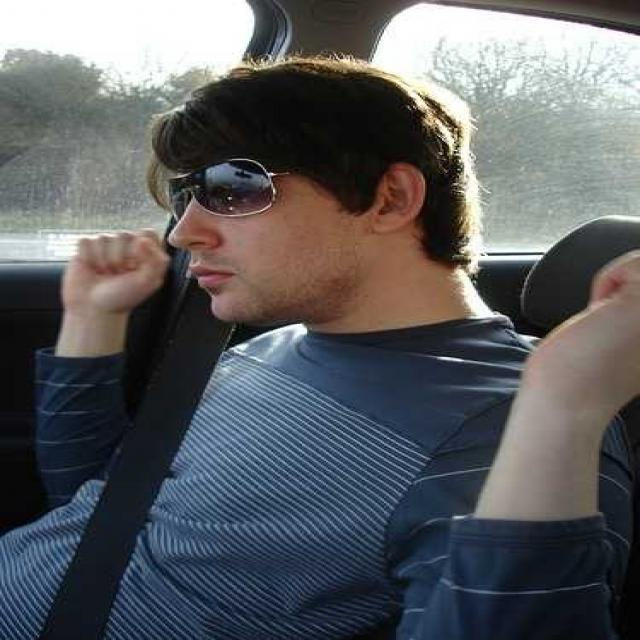seatbelt: (44, 261, 280, 603)
